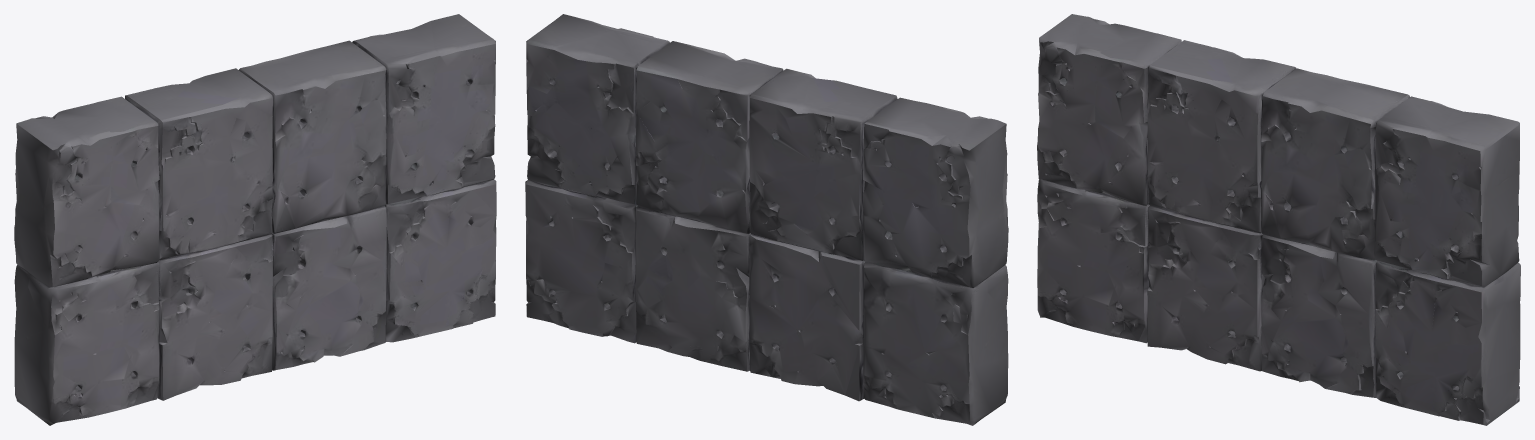
File: decor_foam_panels_idle.glb
3 renders of one model, left to right at view 1: azimuth 30°, elevation 25°; view 2: azimuth 150°, elevation 25°; view 3: azimuth 330°, elevation 25°, orthographic.
Visible parts, largest first — view 1: tripo_node_b4444107-0847-4d6b-903e-954dee909a39; view 2: tripo_node_b4444107-0847-4d6b-903e-954dee909a39; view 3: tripo_node_b4444107-0847-4d6b-903e-954dee909a39.
Boxes of the visible parts, bbox=[...] form: tripo_node_b4444107-0847-4d6b-903e-954dee909a39: bbox=[14, 14, 496, 425]; tripo_node_b4444107-0847-4d6b-903e-954dee909a39: bbox=[525, 14, 1008, 425]; tripo_node_b4444107-0847-4d6b-903e-954dee909a39: bbox=[1037, 14, 1520, 425].
Bounding box in the file's own units: 0.9996 × 0.5952 × 0.1513.
Materials: 1 (1 with a texture image).
